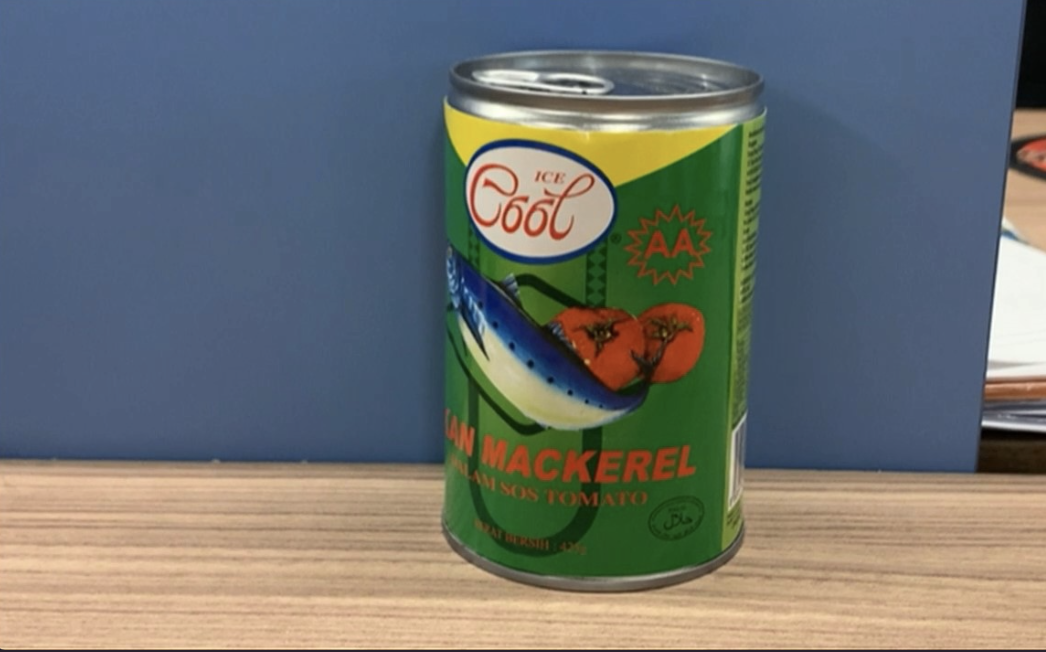sardines_450g: (447, 116, 741, 554)
